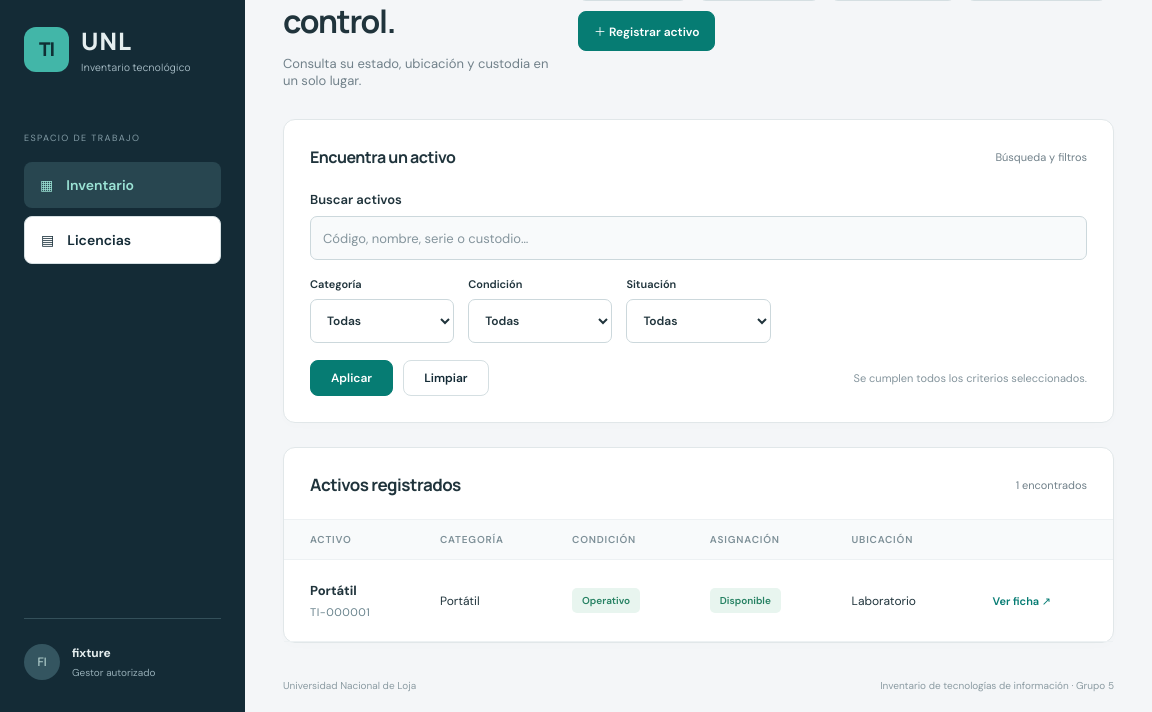
Test case: historial combinado conserva movimientos y presenta ediciones
(page scrolled)
Click the button with aria-label "Ver ficha de TI-000001": (1022, 600) [984,586,1059,616]
(page scrolled)
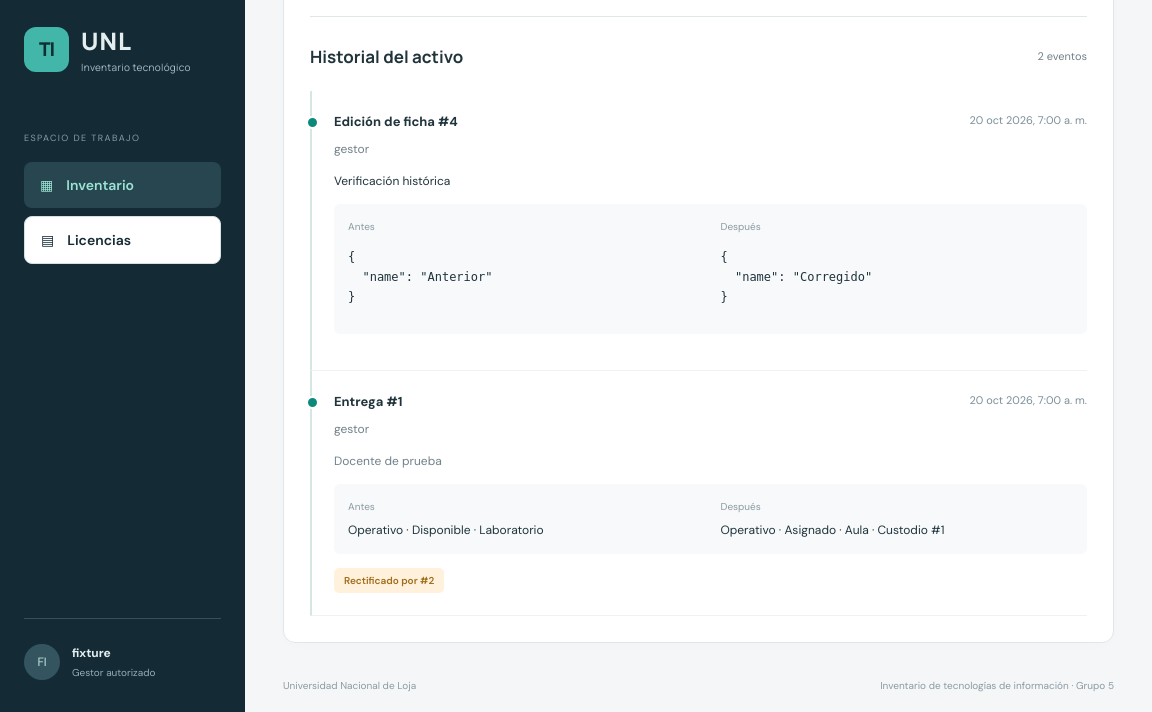
Now the text "Verificación histórica" is shown, box [334,173,450,189]
Now the text "Docente de prueba" is shown, box [334,453,442,469]
